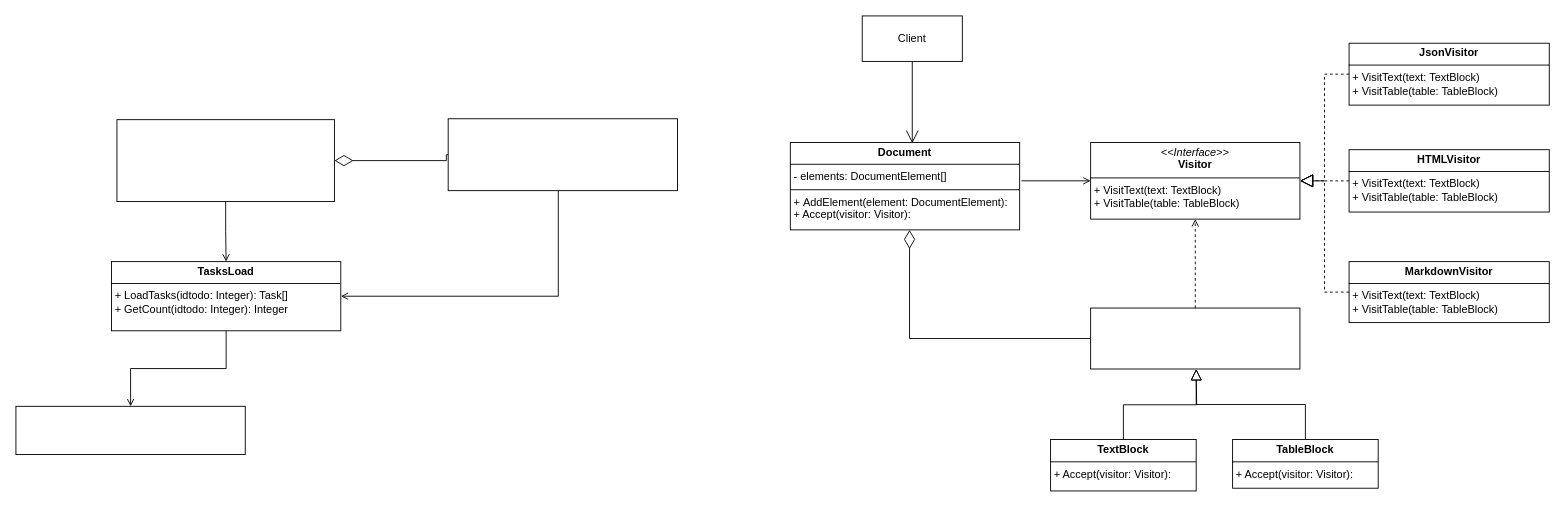
This 1565x507 diagram has some shape labels left out. Each missing label, with the centre of its shape:
<<Interface>> DocumentElement + Accept(visitor: Visitor):: the point at 1195,338
Databases + Query(sql):: the point at 130,430
Task - id: Integer + label: String + description: String: the point at 562,154
ToDo - idtodo: Integer - tasks: Task[] + GetTasks( ): Task[]: the point at 225,160
